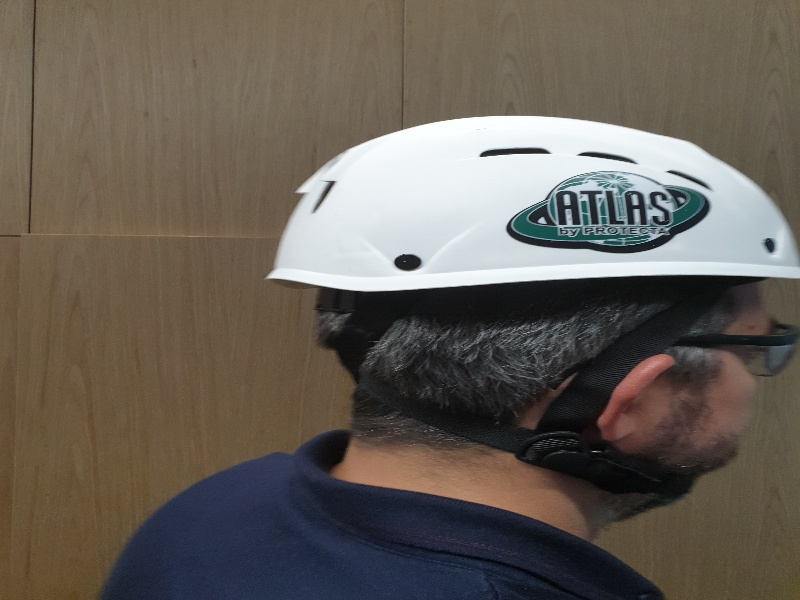Baret: (265, 122, 800, 291)
